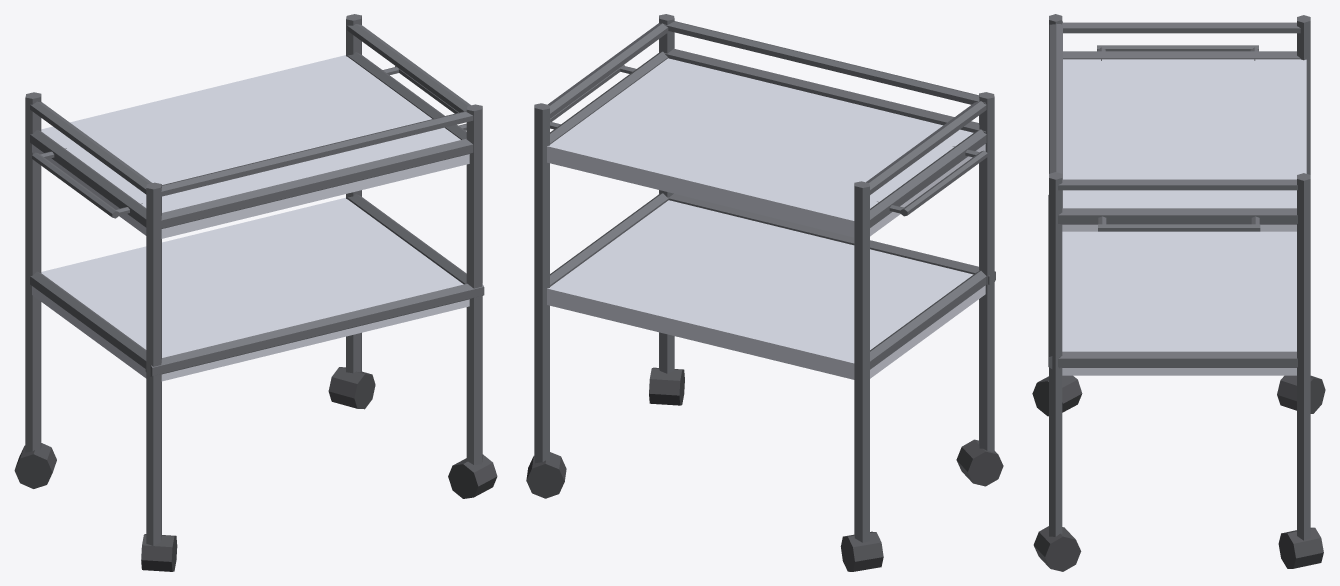
File: Sidetable.fbx
3 renders of one model, left to right at view 1: azimuth 30°, elevation 25°; view 2: azimuth 150°, elevation 25°; view 3: azimuth 270°, elevation 25°, orthographic.
Visible parts, largest first — view 1: Sidetable; view 2: Sidetable; view 3: Sidetable.
Part boxes in pixels (x1,y1,x2,y2): Sidetable: (14,14,497,571); Sidetable: (526,14,1003,571); Sidetable: (1032,14,1325,571).
Size of the model in its own units: 106 by 72.14 by 106.
